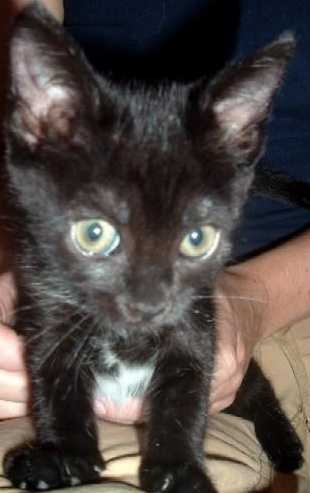Cat: (3, 5, 304, 492)
